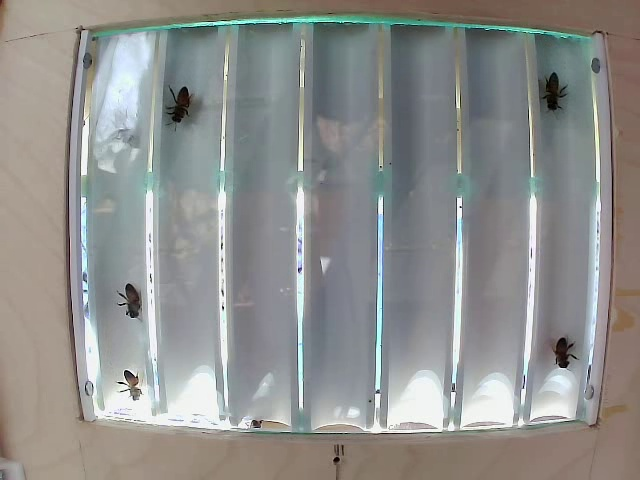bee: (158, 87, 202, 140), (111, 278, 154, 320), (542, 64, 572, 121), (548, 328, 584, 367)
